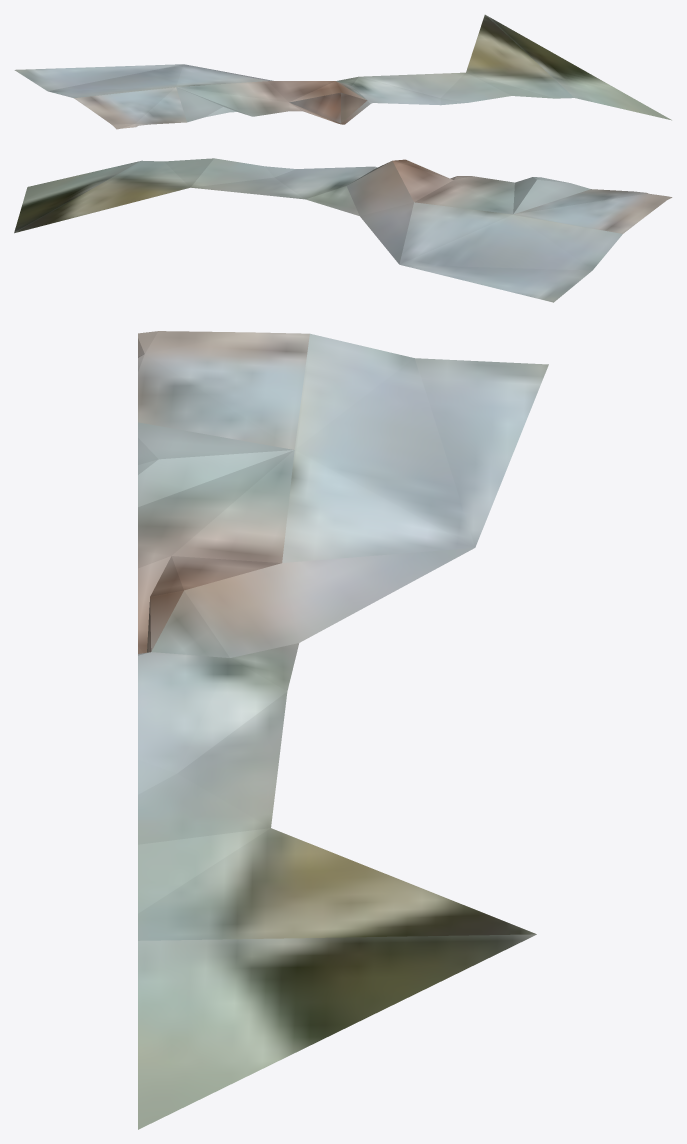
3 renders of one model, top to bottom at view 1: azimuth 30°, elevation 25°; view 2: azimuth 150°, elevation 25°; view 3: azimuth 270°, elevation 25°, orthographic. The views are drawn at different scales.
Bounding box in the file's own units: 4.3 × 0.9448 × 1.37.
Materials: 1 (1 with a texture image).
